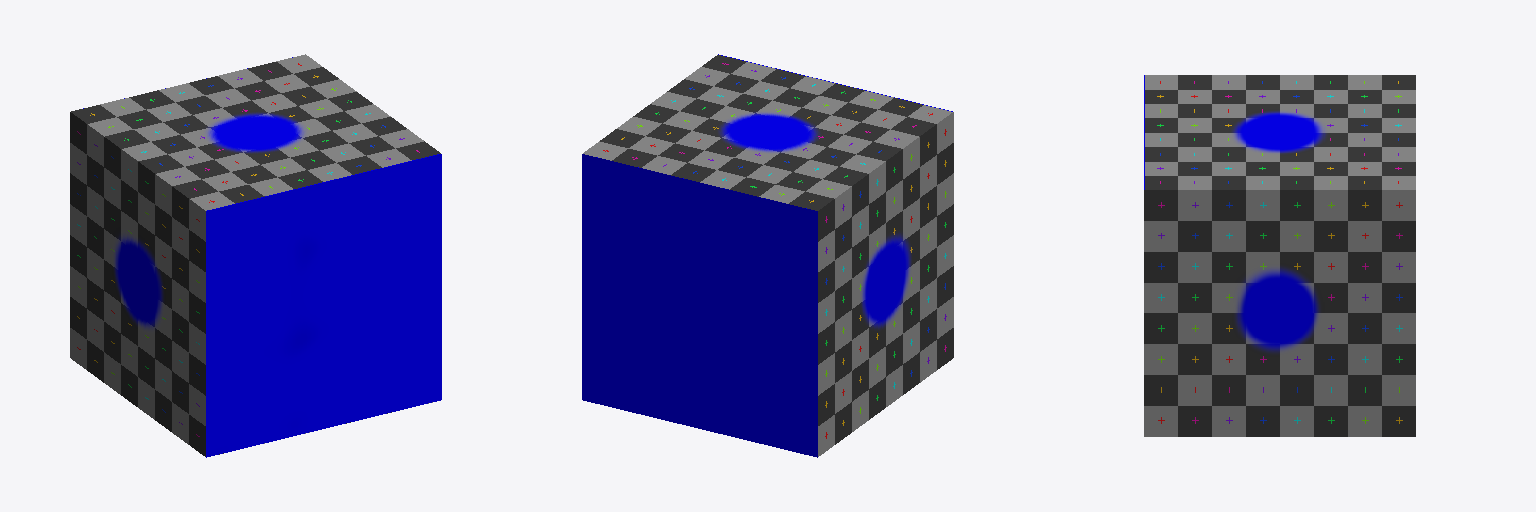
3 views of the same model, side by side, from view 1: azimuth 30°, elevation 25°; view 2: azimuth 150°, elevation 25°; view 3: azimuth 270°, elevation 25° (orthographic).
Visible parts, largest first — view 1: Cube; view 2: Cube; view 3: Cube.
Part boxes in pixels (bbox=[...]): Cube: bbox=[70, 54, 441, 457]; Cube: bbox=[582, 54, 953, 457]; Cube: bbox=[1144, 75, 1415, 436].
Size of the model in its own units: 1 by 1 by 1.
Materials: 1 (1 with a texture image).